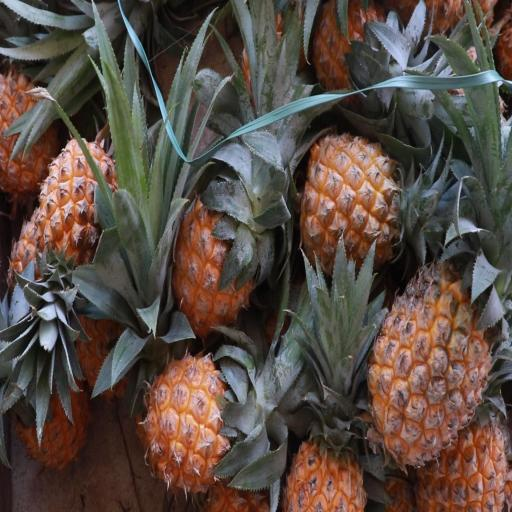Pineapple - v8 v1: (365, 238, 506, 478), (294, 122, 433, 288), (136, 343, 271, 498), (163, 171, 271, 342), (30, 133, 134, 305), (279, 366, 368, 512), (305, 0, 407, 126), (0, 54, 66, 220)
